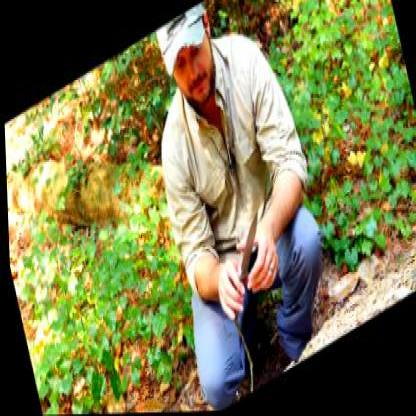knife: (212, 204, 274, 320)
